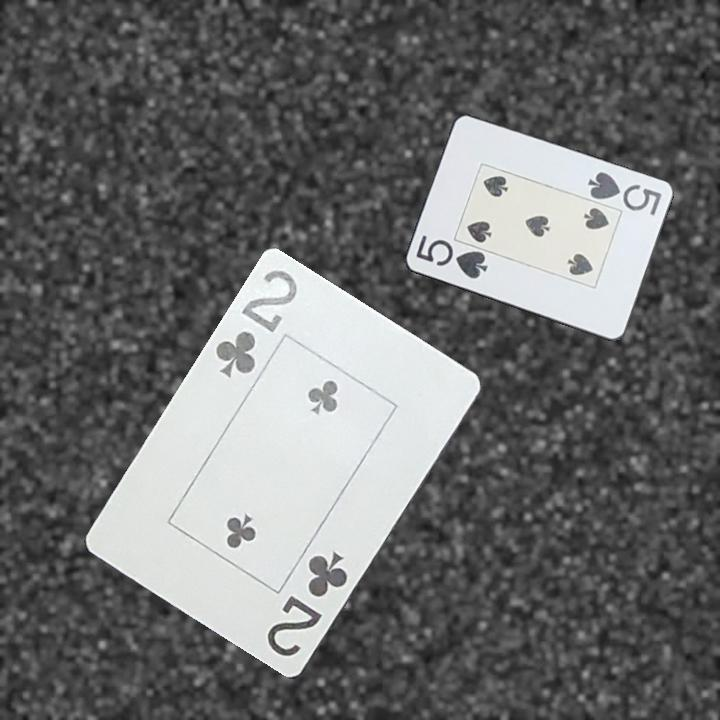2c: (211, 266, 301, 382), (263, 548, 351, 661)
5s: (583, 168, 664, 219), (412, 232, 491, 282)
